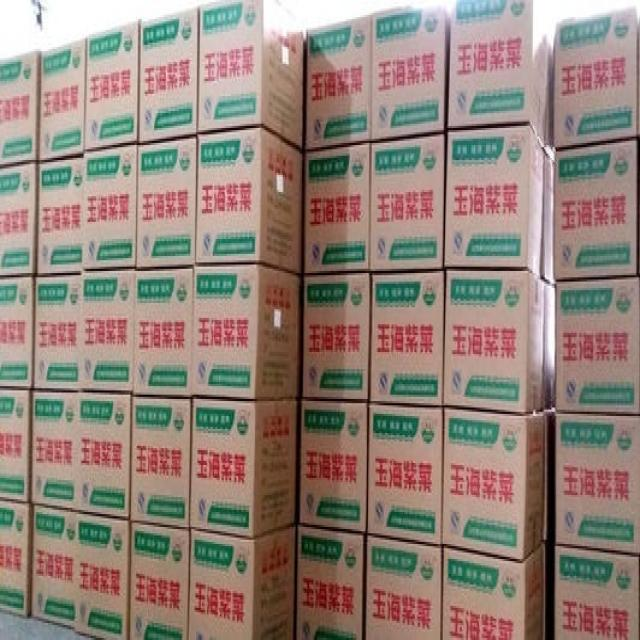box: (448, 0, 555, 159), (197, 0, 304, 148), (195, 128, 302, 273), (443, 408, 545, 560), (444, 126, 544, 277), (190, 399, 297, 537), (192, 265, 300, 399), (444, 271, 545, 413), (188, 527, 295, 638), (554, 8, 638, 147), (556, 414, 639, 553), (555, 277, 639, 412), (554, 140, 636, 278), (371, 1, 451, 139), (368, 404, 442, 544), (370, 135, 444, 270), (370, 271, 443, 404), (443, 545, 544, 638), (299, 401, 367, 531), (306, 14, 371, 149), (302, 273, 370, 399), (304, 144, 370, 272), (140, 6, 198, 142), (137, 138, 197, 267), (132, 397, 191, 528), (366, 536, 441, 638), (556, 546, 639, 638), (297, 526, 364, 638), (133, 269, 193, 394), (84, 20, 140, 150), (76, 393, 131, 517), (130, 524, 189, 638), (82, 145, 137, 267), (75, 514, 129, 638), (80, 270, 135, 391), (38, 36, 86, 162), (32, 506, 77, 628), (37, 158, 83, 273), (35, 275, 81, 390), (32, 391, 77, 508), (0, 50, 40, 166), (0, 164, 36, 276), (0, 277, 33, 387), (0, 502, 30, 617), (0, 390, 30, 501)
